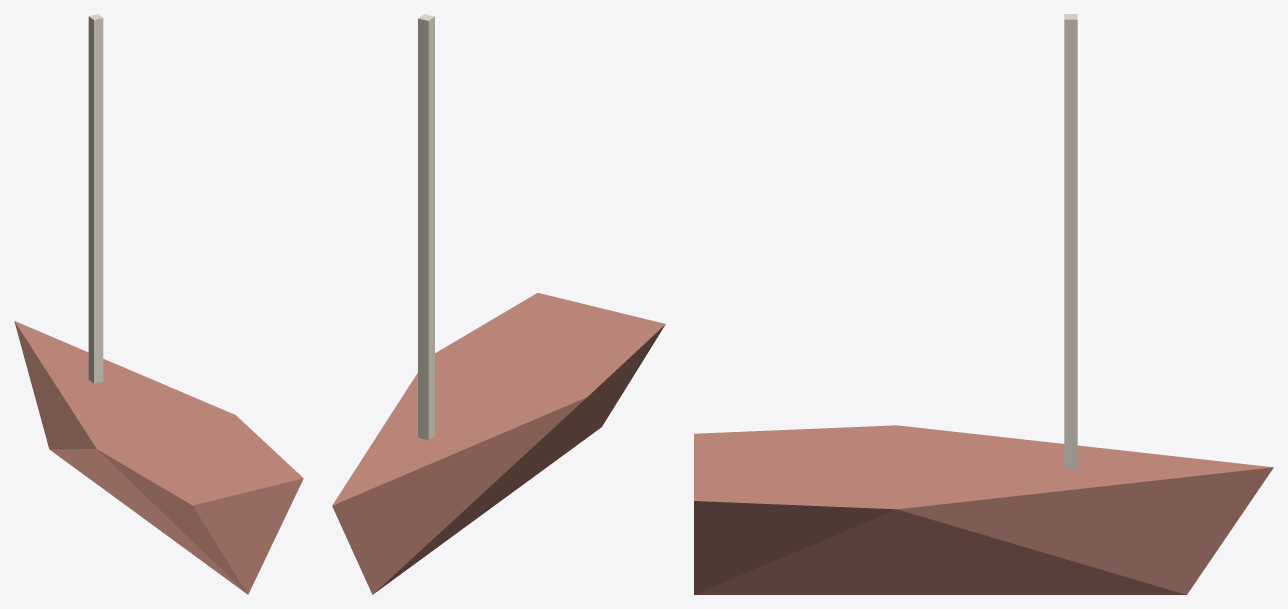
File: boat.glb
3 renders of one model, left to right at view 1: azimuth 30°, elevation 25°; view 2: azimuth 150°, elevation 25°; view 3: azimuth 270°, elevation 25°, orthographic. The views are drawn at different scales.
Parts seen in each view (by area): view 1: hull, spar; view 2: hull, spar; view 3: hull, spar.
Part boxes in pixels (x1,y1,x2,y2): hull: (14, 321, 303, 594); spar: (88, 14, 103, 383); hull: (332, 293, 665, 594); spar: (418, 14, 434, 440); hull: (694, 425, 1273, 594); spar: (1064, 14, 1077, 469).
Bounding box in the file's own units: 2.4 × 7.7 × 7.
